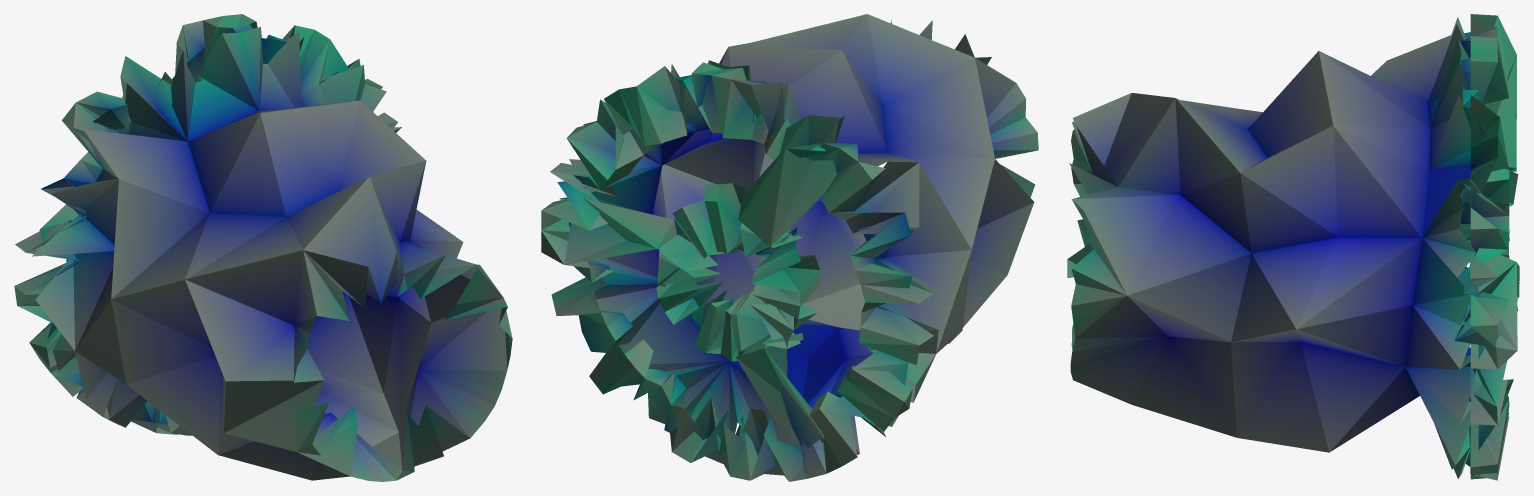
The model's file is lamp_shade_2_final300.obj.
3 views of the same model, side by side, from view 1: azimuth 30°, elevation 25°; view 2: azimuth 150°, elevation 25°; view 3: azimuth 270°, elevation 25° (orthographic). The views are drawn at different scales.
Bounding box in the file's own units: 1.29 × 1.3 × 1.24.
